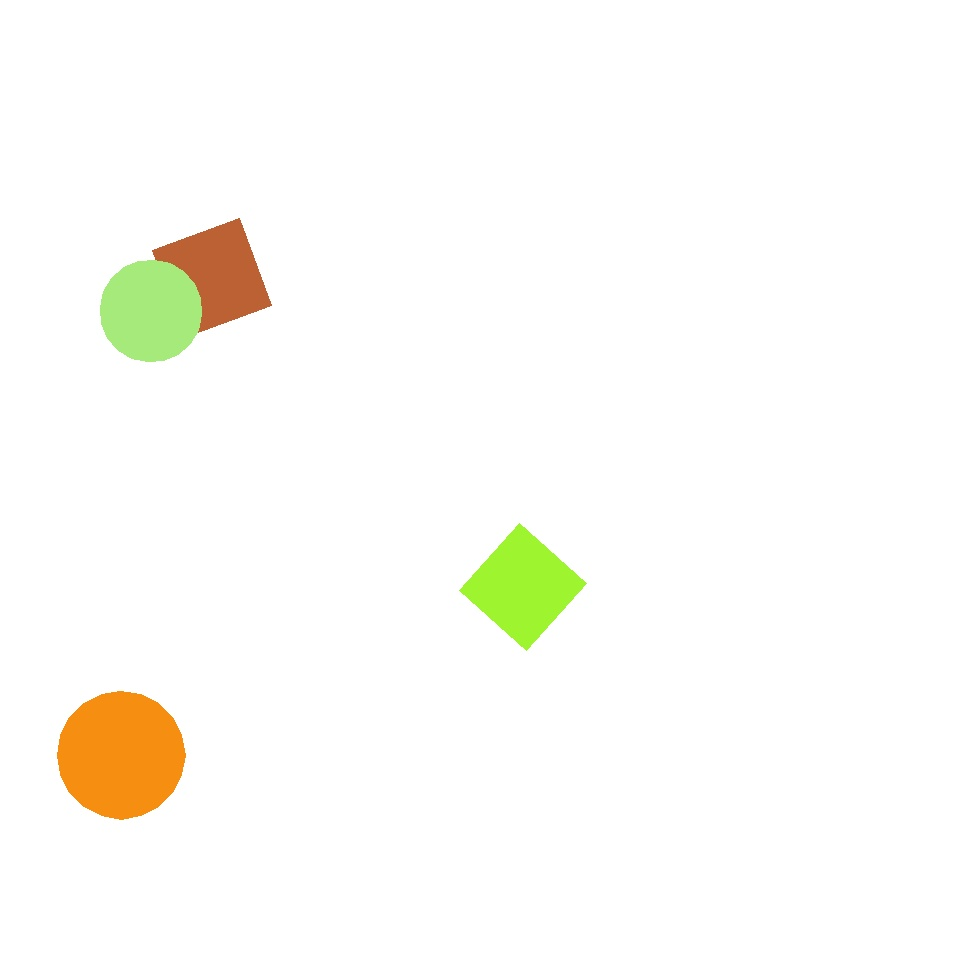circle: (802, 412, 935, 556)
square: (468, 584, 754, 870), (460, 524, 586, 650), (152, 219, 272, 338)
triangle: (57, 691, 185, 819), (412, 90, 528, 206), (698, 100, 814, 214), (100, 260, 202, 362)
